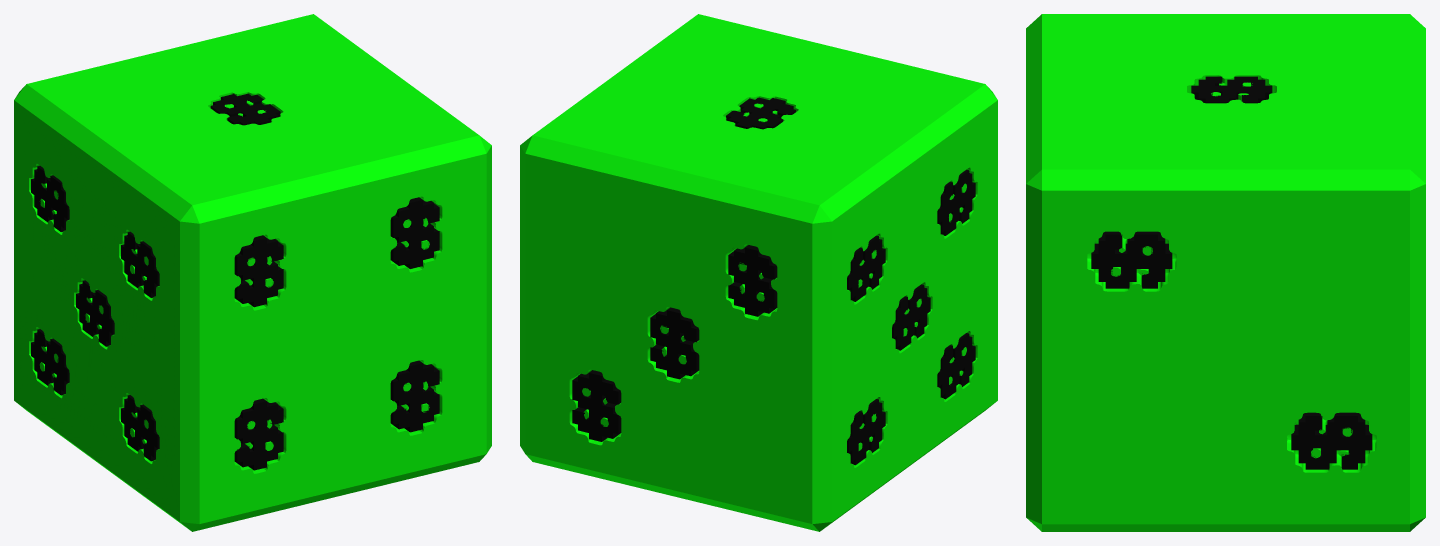
The model's file is 2_dollar_dice_green.gltf.
3 views of the same model, side by side, from view 1: azimuth 30°, elevation 25°; view 2: azimuth 150°, elevation 25°; view 3: azimuth 270°, elevation 25° (orthographic). The views are drawn at different scales.
Parts seen in each view (by area): view 1: D6_Dice_Green; view 2: D6_Dice_Green; view 3: D6_Dice_Green.
Part boxes in pixels (bbox=[...]): D6_Dice_Green: bbox=[14, 14, 491, 531]; D6_Dice_Green: bbox=[520, 14, 997, 531]; D6_Dice_Green: bbox=[1026, 14, 1425, 531].
Bounding box in the file's own units: 2 × 2 × 2.
